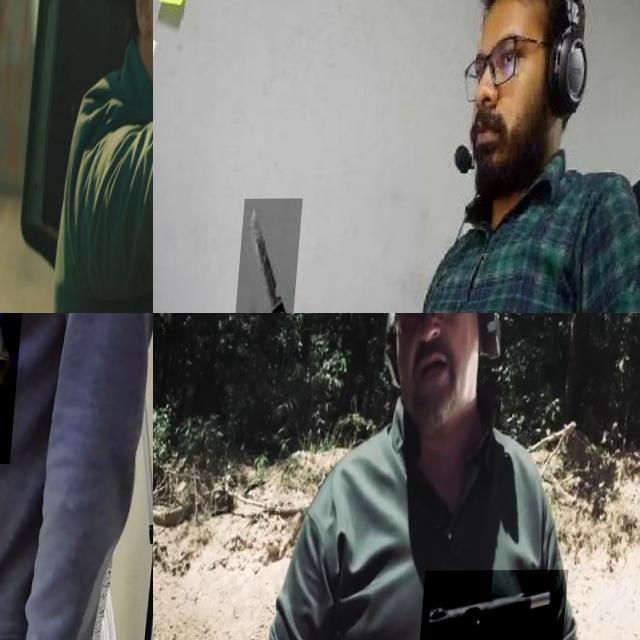-: (242, 198, 310, 313)
gun-knife-thesis - v11 Yolov5 augmented: (422, 570, 575, 640), (0, 313, 58, 465)
